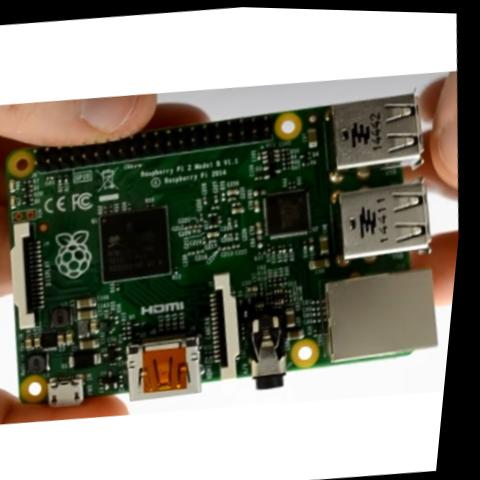Raspberry-Pi-2-Model-B: (0, 70, 474, 426)
